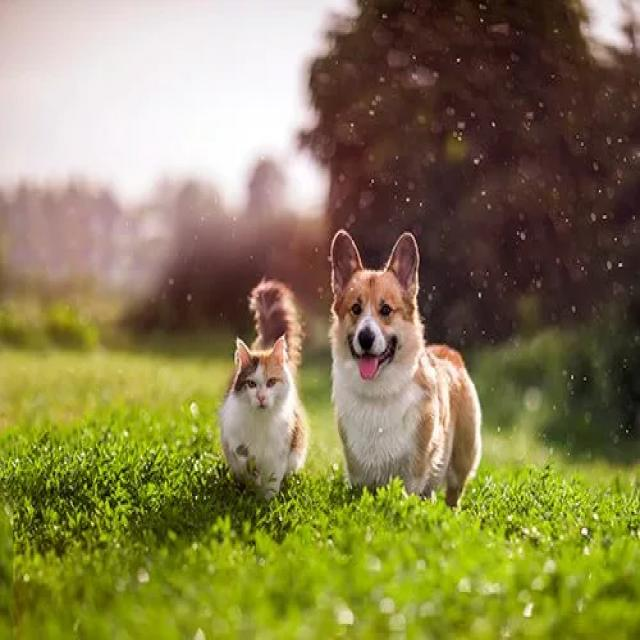cat: (221, 283, 311, 520)
dog: (319, 236, 490, 514)
